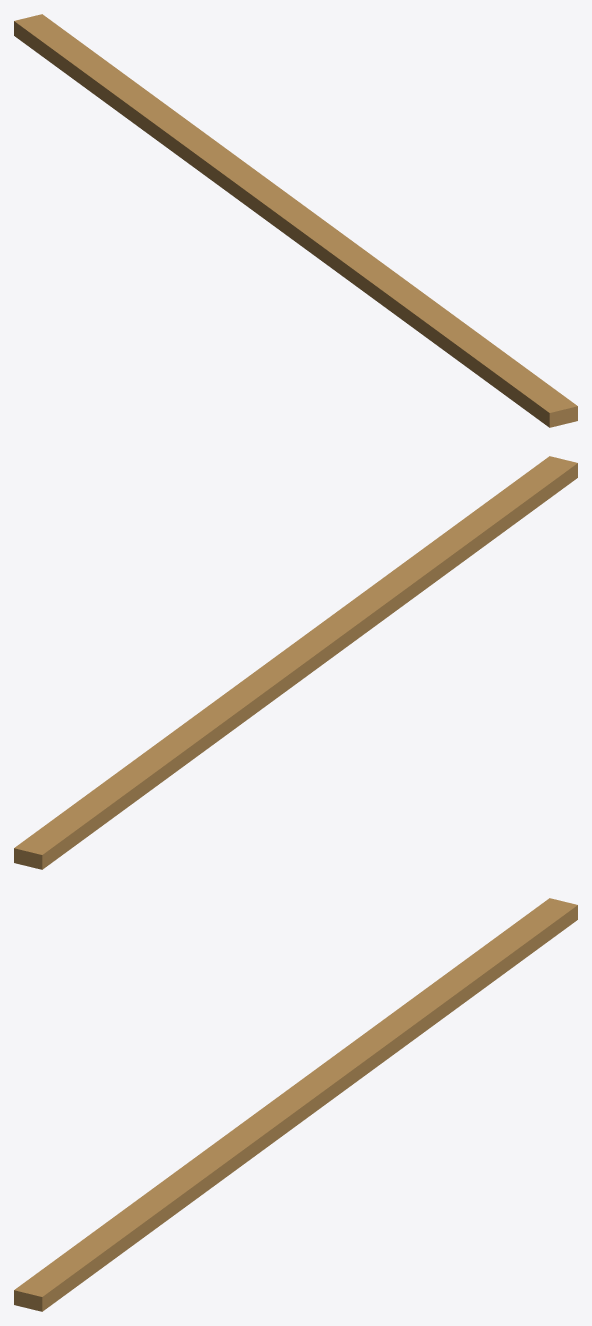
3 views of the same model, one above another, from view 1: azimuth 30°, elevation 25°; view 2: azimuth 150°, elevation 25°; view 3: azimuth 330°, elevation 25° (orthographic).
Visible parts, largest first — view 1: RUN-080-S04-bottom_plate; view 2: RUN-080-S04-bottom_plate; view 3: RUN-080-S04-bottom_plate.
Boxes of the visible parts, x1,y1,x2,y2 form: RUN-080-S04-bottom_plate: (14,14,577,427); RUN-080-S04-bottom_plate: (14,456,577,869); RUN-080-S04-bottom_plate: (14,898,577,1311).
Bounding box in the file's own units: 0.09 × 0.045 × 2.95.
